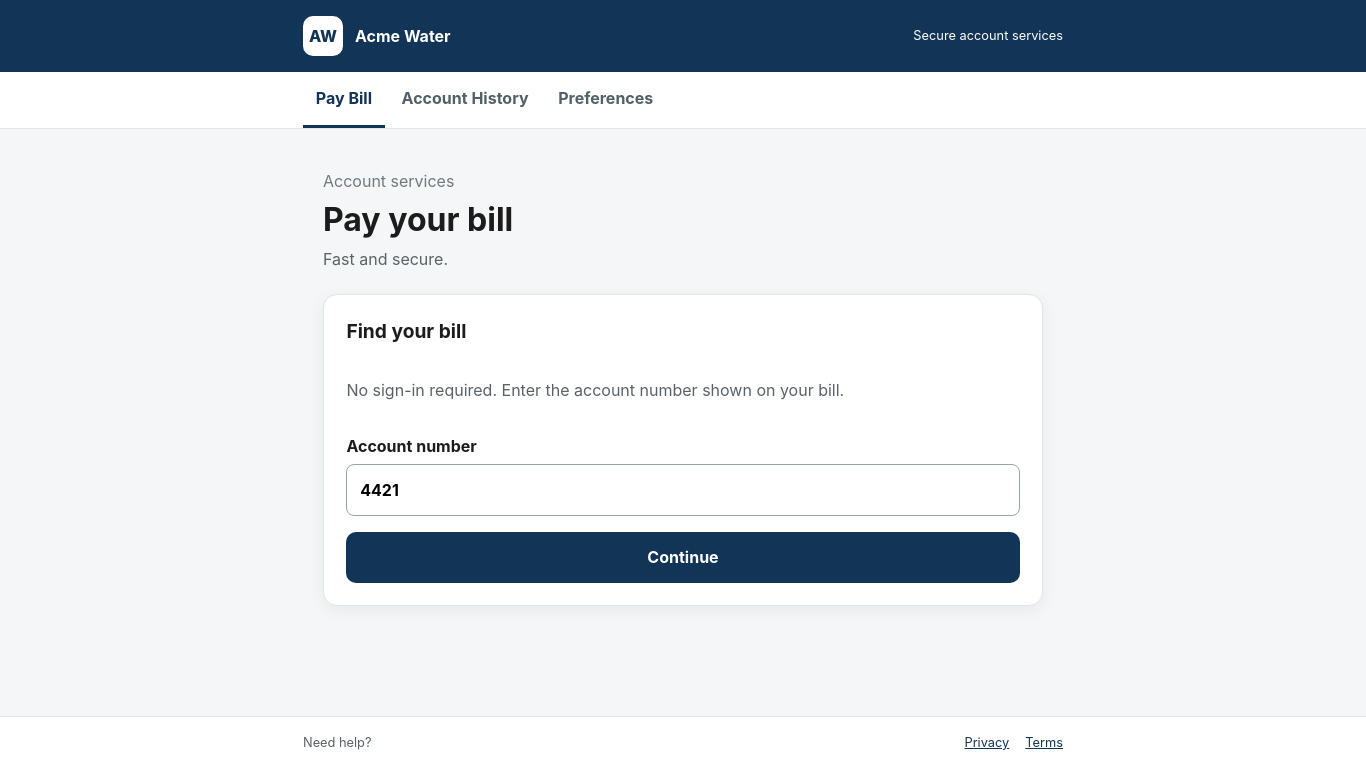
Test: payment success followed by history refresh failure › shows confirmation when the post-payment history refresh throws
What coordinates should you click on to do the following:
click the button with test id "lookup-submit"
I would click on:
 (683, 557)
Its box is [346,532,1020,583].
(page scrolled)
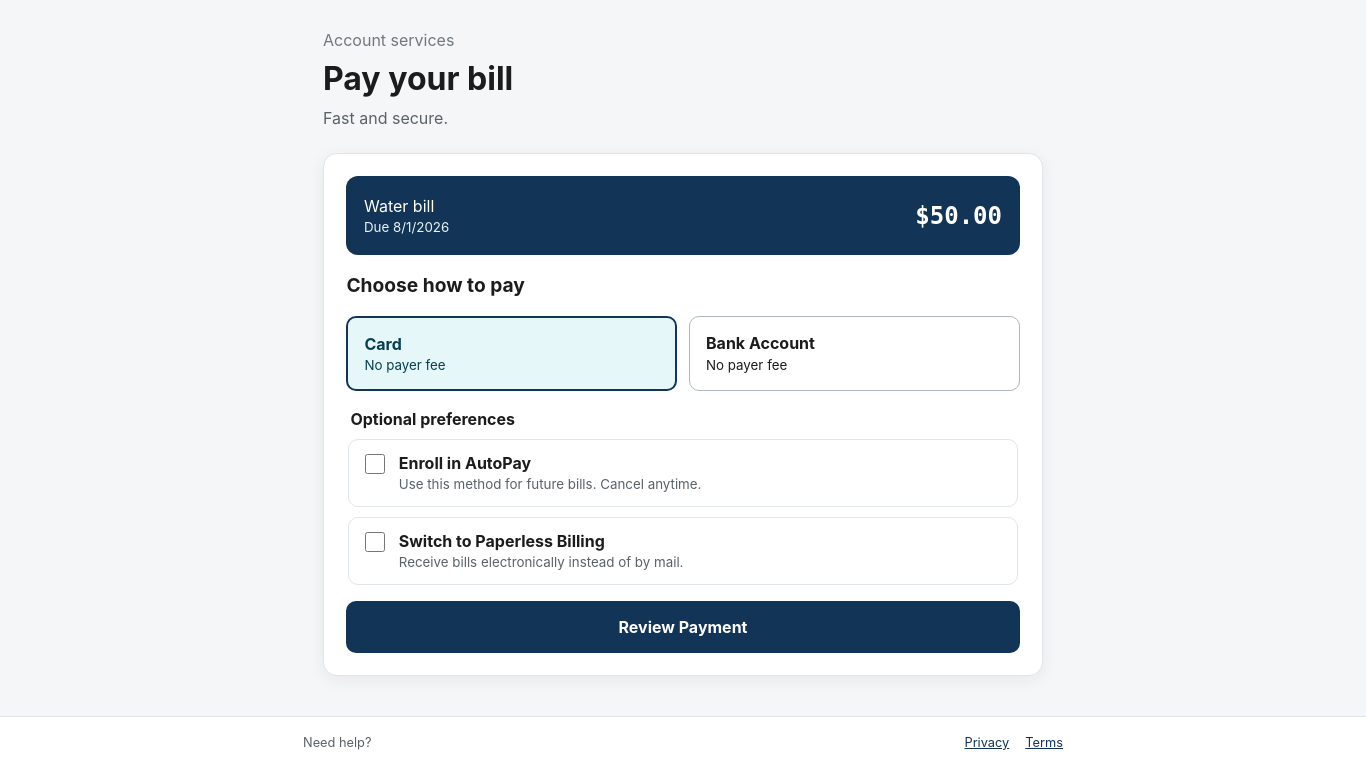
What coordinates should you click on to do the following:
click the button with test id "review-submit"
I would click on:
 (683, 627)
Its box is [346,601,1020,653].
(page scrolled)
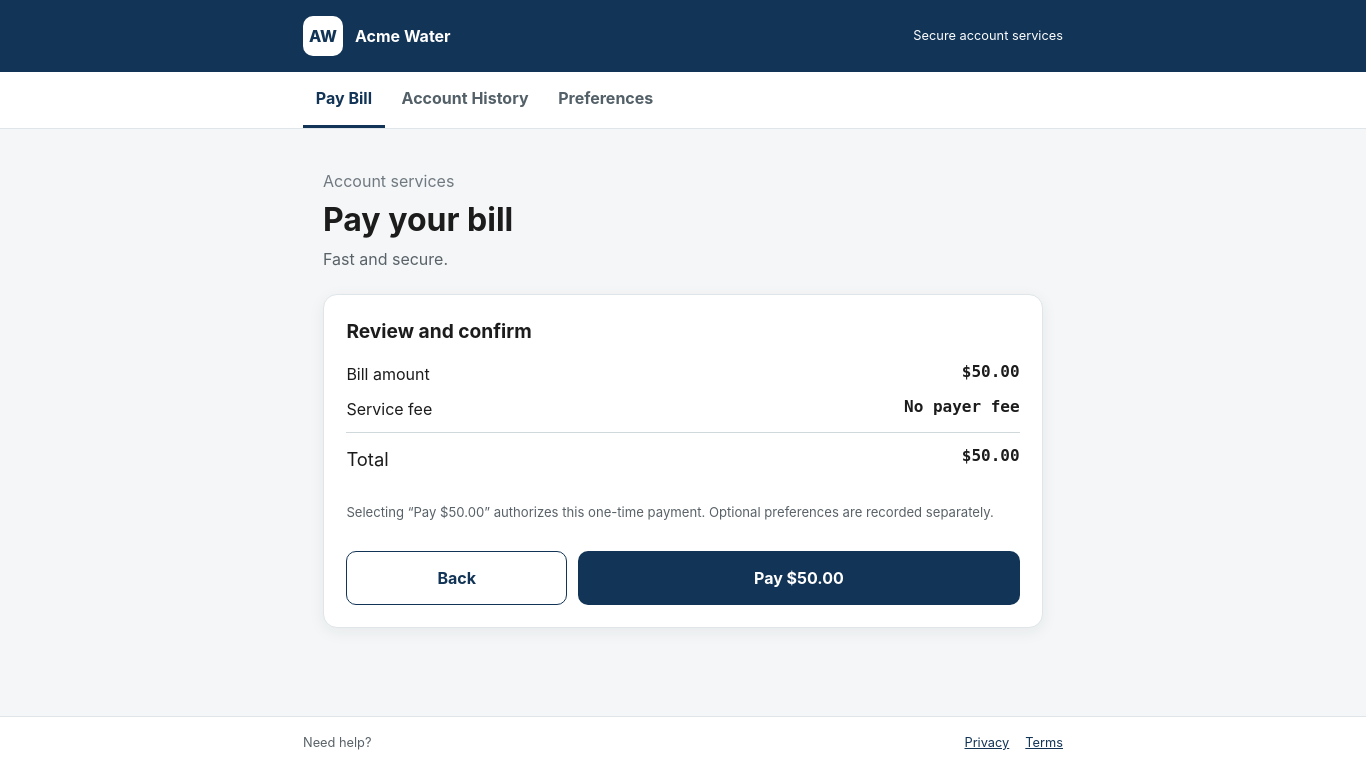
Expected: the button with test id "pay-submit" is shown
What coordinates should you click on to do the following:
click the button with test id "pay-submit"
I would click on:
 (799, 578)
Its box is [578,551,1020,605].
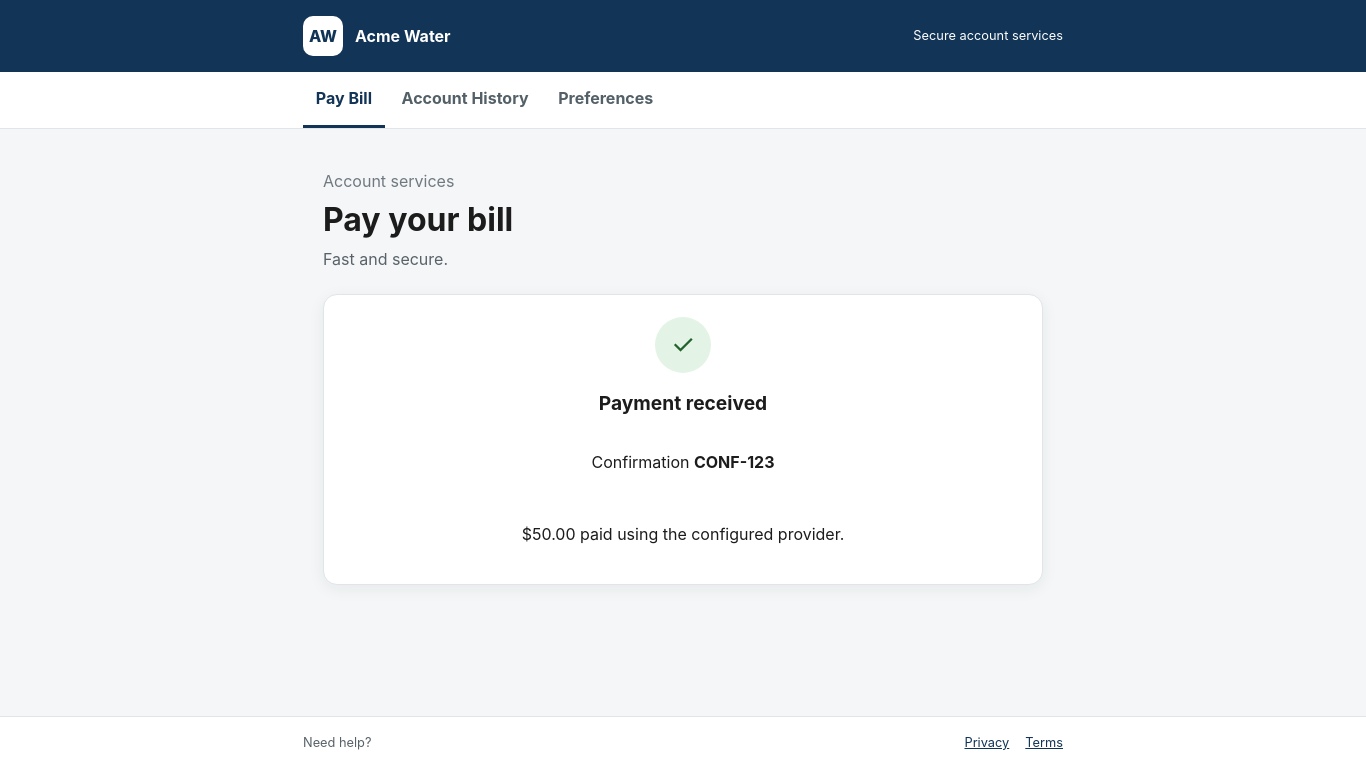
Expected: the element with test id "payment-confirmation" is shown, [323,294,1043,585]
Expected: the text with test id "confirmation-code" reads "CONF-123", [694,452,774,472]
